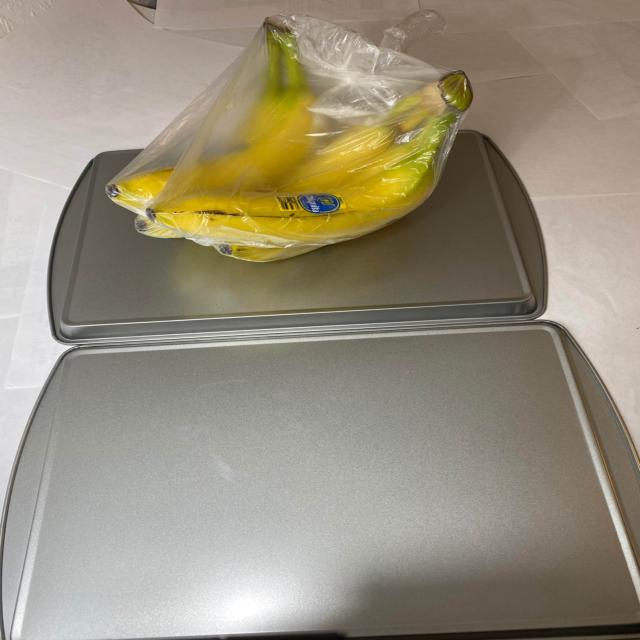banana: (104, 18, 501, 267)
